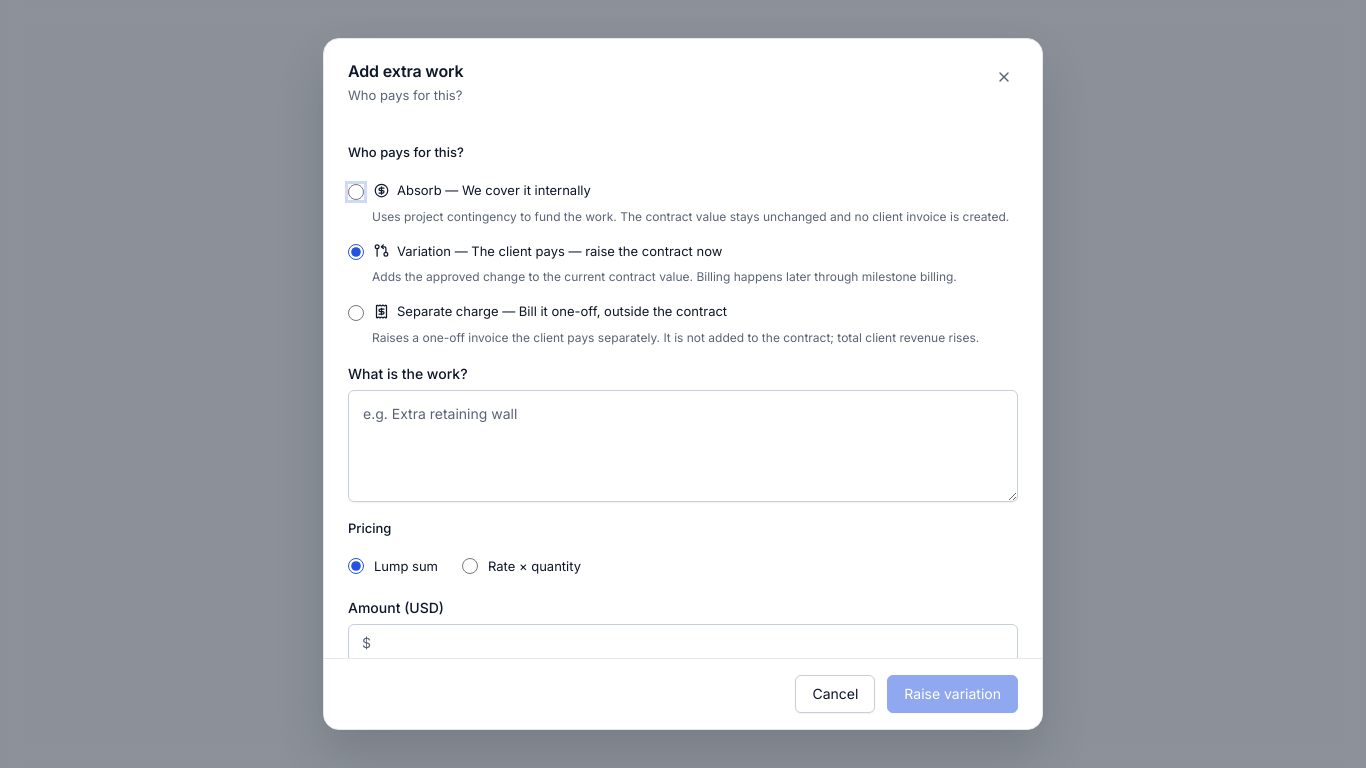
AddExtraWorkDialog › shows SEPARATE consequence: "Contract unchanged · Separate client charge {amount}"
Click the radio button labelled "Separate charge — Bill it one-off, outside the contract". click: (356, 313)
box: [348,305,364,321]
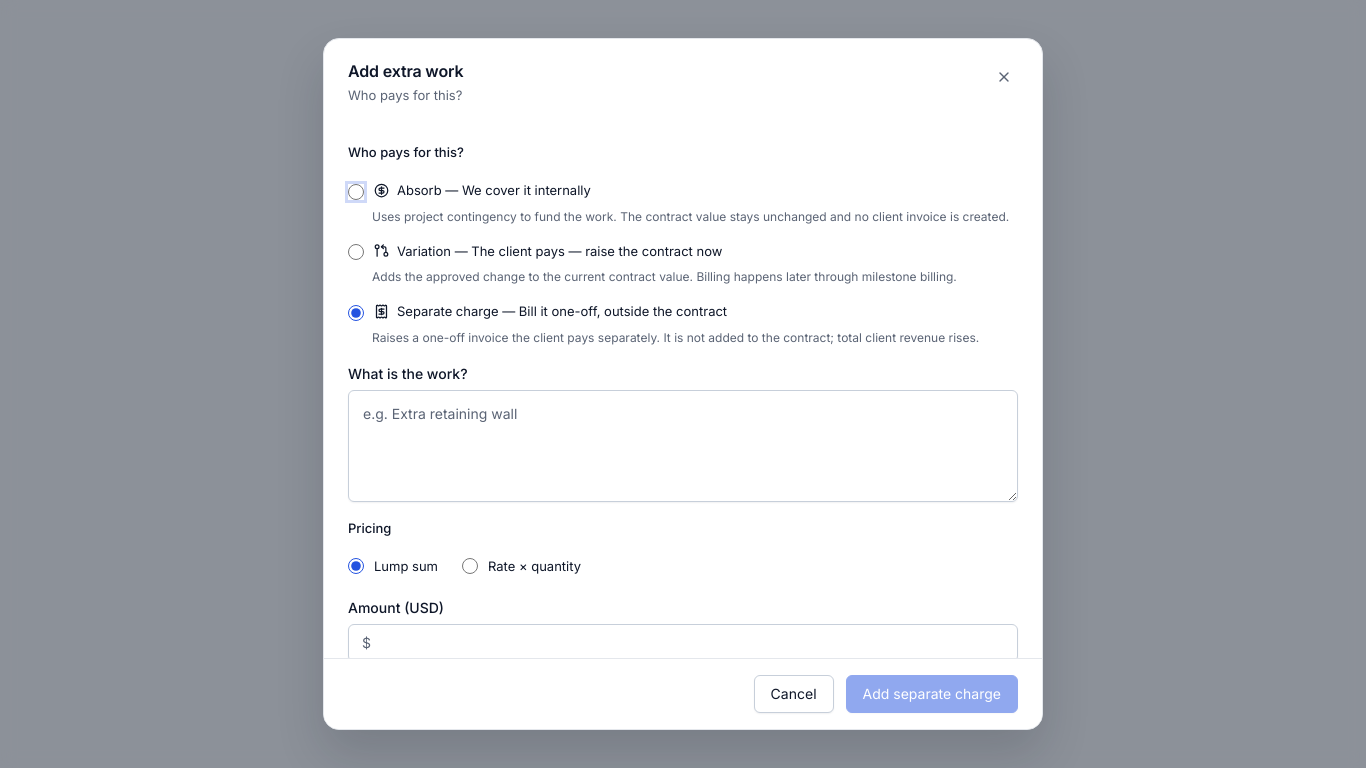
Type "2000" into the field labelled "Amount (USD)". click: (683, 643)
box: [348,624,1018,662]
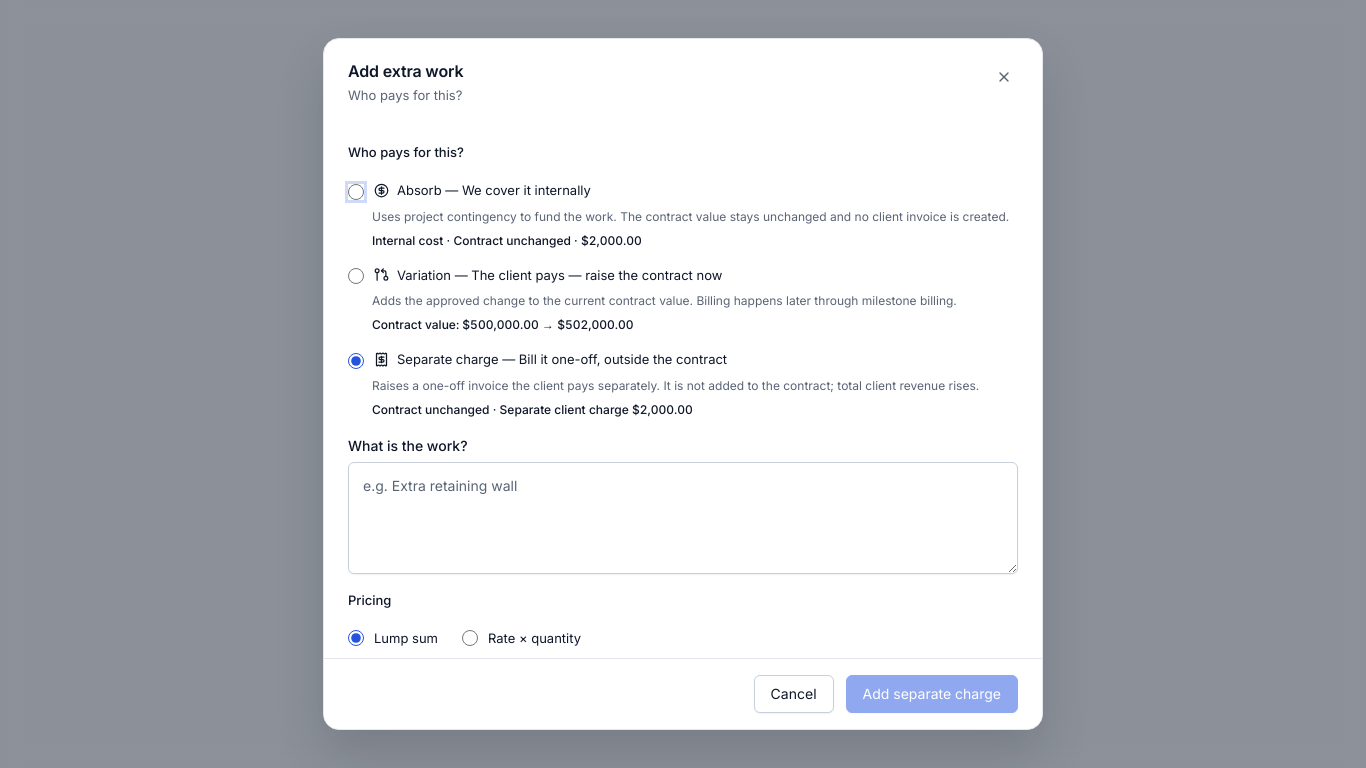
Expected: the text "Separate client charge" is shown, [372,402,693,417]
Expected: the text "Contract unchanged" is shown, [372,233,642,248]
